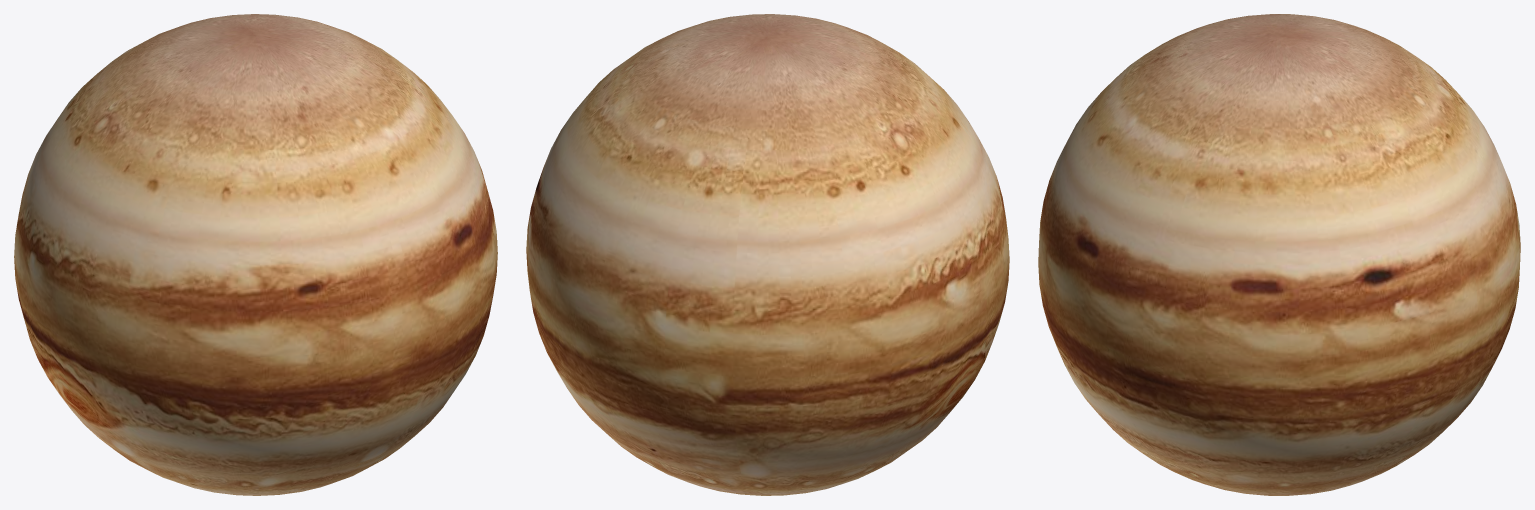
File: Jupiter.fbx
3 views of the same model, side by side, from view 1: azimuth 30°, elevation 25°; view 2: azimuth 150°, elevation 25°; view 3: azimuth 270°, elevation 25° (orthographic).
Parts seen in each view (by area): view 1: Jupiter.001; view 2: Jupiter.001; view 3: Jupiter.001.
Part boxes in pixels (box(x1,y1,x2,y2)): Jupiter.001: box(14, 14, 497, 495); Jupiter.001: box(526, 14, 1009, 495); Jupiter.001: box(1038, 14, 1520, 495).
Size of the model in its own units: 12.21 by 12.21 by 12.21.
